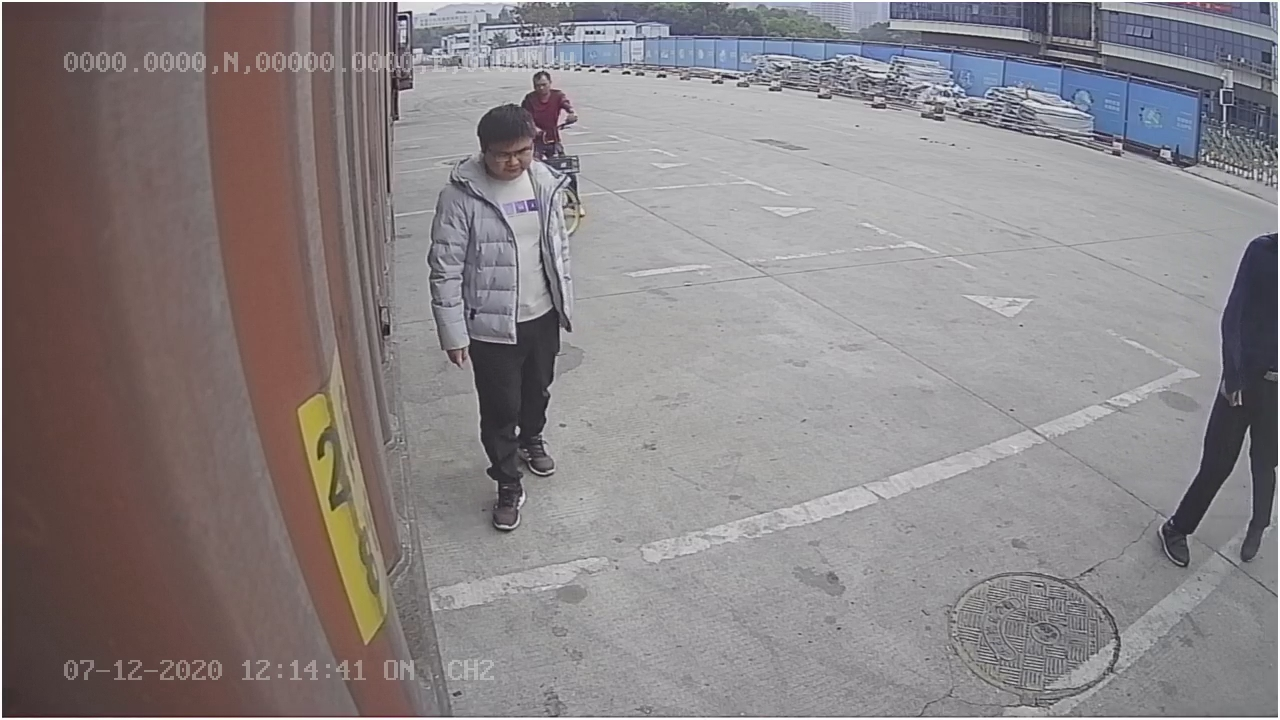person: (430, 104, 571, 533)
